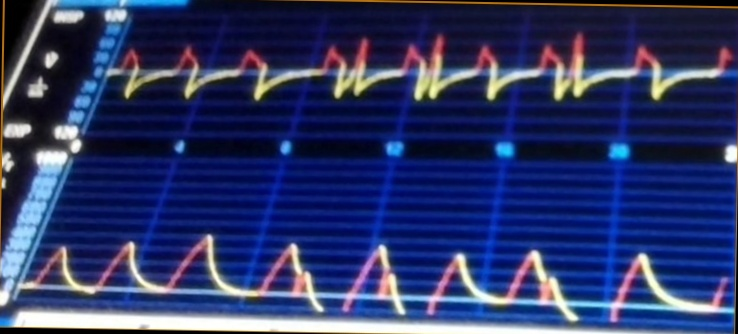Double_Triggering Flow: (119, 21, 732, 125)
Double_Triggering Volume: (39, 218, 725, 321)
